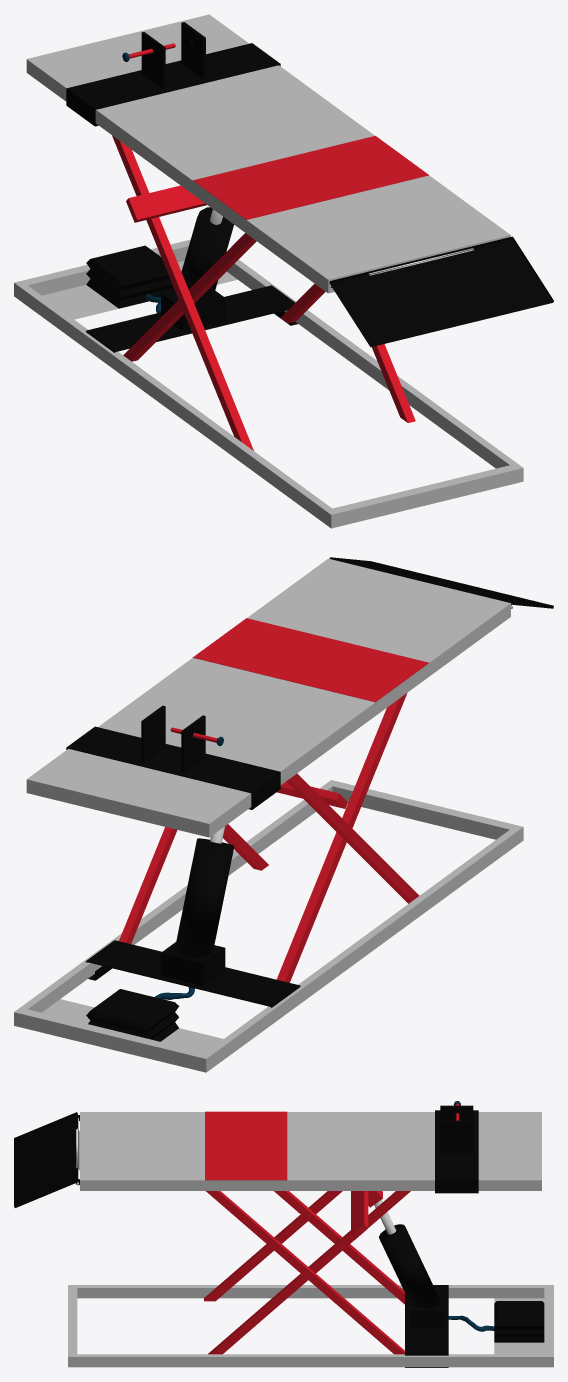
Rendered from Arbeitstisch_Fahrrad.fbx.
3 renders of one model, top to bottom at view 1: azimuth 30°, elevation 25°; view 2: azimuth 150°, elevation 25°; view 3: azimuth 270°, elevation 25°, orthographic. The views are drawn at different scales.
Visible parts, largest first — view 1: DESK top, BOTTOM, slider, Plane, leggs, wheel lock, wheel lock.001, piston, stand part; view 2: DESK top, BOTTOM, Plane, leggs, wheel lock, wheel lock.001, piston, slider; view 3: DESK top, BOTTOM, leggs, Plane, slider, wheel lock, piston, wheel lock.001, stand part.
Boxes of the visible parts, <box> form: DESK top: <box>26,14,510,293</box>; BOTTOM: <box>14,239,523,528</box>; slider: <box>329,236,553,347</box>; Plane: <box>193,136,428,219</box>; leggs: <box>112,135,415,450</box>; wheel lock: <box>66,22,280,126</box>; wheel lock.001: <box>86,285,297,352</box>; piston: <box>174,207,233,305</box>; stand part: <box>126,185,206,222</box>; DESK top: <box>26,558,510,837</box>; BOTTOM: <box>14,780,523,1072</box>; Plane: <box>193,618,428,702</box>; leggs: <box>119,693,419,982</box>; wheel lock: <box>66,705,280,809</box>; wheel lock.001: <box>86,940,300,1007</box>; piston: <box>174,838,234,958</box>; slider: <box>329,557,553,608</box>; DESK top: <box>80,1112,541,1190</box>; BOTTOM: <box>68,1285,553,1367</box>; leggs: <box>204,1191,410,1354</box>; Plane: <box>205,1111,287,1180</box>; slider: <box>14,1112,77,1207</box>; wheel lock: <box>435,1105,478,1193</box>; piston: <box>379,1224,441,1308</box>; wheel lock.001: <box>405,1285,448,1367</box>; stand part: <box>351,1191,368,1239</box>.
Size of what is drawn, in the model's own units: 234 by 80.69 by 105.
